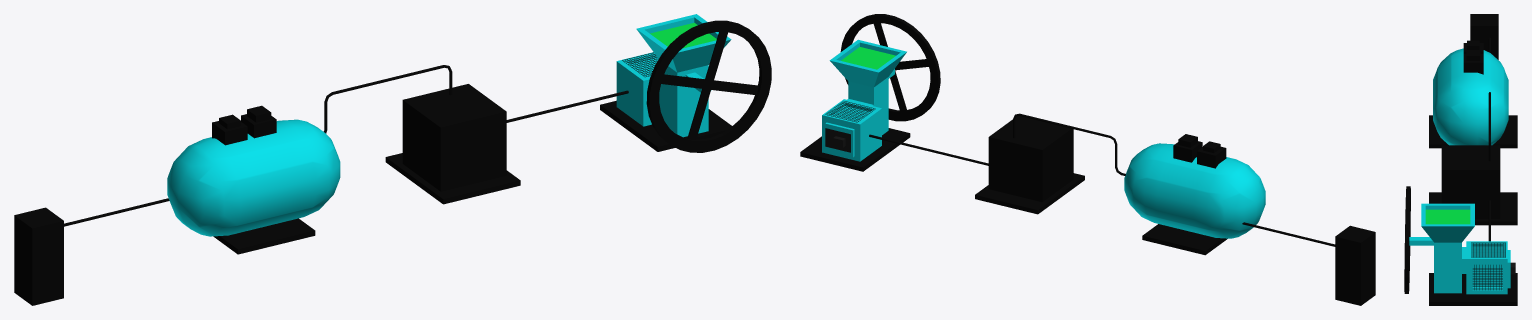
Rendered from bagasseFactory.fbx.
3 renders of one model, left to right at view 1: azimuth 30°, elevation 25°; view 2: azimuth 150°, elevation 25°; view 3: azimuth 270°, elevation 25°, orthographic. The views are drawn at different scales.
Visible parts, largest first — view 1: Mball, Cube.004, Cylinder, Cube.001, Cube.009, Cube.002, Cube.005, Cube.003, Cube, Cube.008, Cube.006, Cube.007; view 2: Mball, Cube.004, Cube.001, Cube.002, Cube.009, Cylinder, Cube, Cube.005, Cube.003, Cube.008, Cube.006, Cube.007 (+1 smaller); view 3: Mball, Cube.004, Cube.001, Cube.002, Cube, Cube.009, Cube.003, Cube.005, Cylinder, Plane, Plane.001, Cube.006 (+2 smaller).
Part boxes in pixels (x1=…): Mball: x1=167, y1=119, x2=340, y2=236; Cube.004: x1=402, y1=84, x2=506, y2=191; Cylinder: x1=646, y1=20, x2=771, y2=152; Cube.001: x1=636, y1=14, x2=731, y2=137; Cube.009: x1=14, y1=207, x2=63, y2=305; Cube.002: x1=616, y1=52, x2=658, y2=126; Cube.005: x1=213, y1=218, x2=315, y2=254; Cube.003: x1=385, y1=153, x2=520, y2=204; Cube: x1=600, y1=100, x2=731, y2=151; Cube.008: x1=64, y1=65, x2=628, y2=226; Cube.006: x1=241, y1=105, x2=276, y2=138; Cube.007: x1=212, y1=114, x2=247, y2=145; Mball: x1=1124, y1=143, x2=1265, y2=238; Cube.004: x1=988, y1=116, x2=1073, y2=202; Cube.001: x1=829, y1=39, x2=906, y2=134; Cube.002: x1=822, y1=99, x2=881, y2=161; Cube.009: x1=1335, y1=225, x2=1375, y2=305; Cylinder: x1=840, y1=14, x2=940, y2=121; Cube: x1=800, y1=128, x2=910, y2=171; Cube.005: x1=1142, y1=224, x2=1227, y2=255; Cube.003: x1=975, y1=173, x2=1084, y2=214; Cube.008: x1=869, y1=113, x2=1335, y2=246; Cube.006: x1=1173, y1=134, x2=1202, y2=162; Cube.007: x1=1197, y1=141, x2=1226, y2=168; Mball: x1=1433, y1=48, x2=1508, y2=145; Cube.004: x1=1441, y1=145, x2=1500, y2=219; Cube.001: x1=1409, y1=203, x2=1474, y2=293; Cube.002: x1=1466, y1=241, x2=1515, y2=294; Cube: x1=1429, y1=273, x2=1517, y2=305; Cube.009: x1=1470, y1=14, x2=1498, y2=59; Cube.003: x1=1429, y1=192, x2=1517, y2=225; Cube.005: x1=1429, y1=115, x2=1517, y2=148; Cylinder: x1=1404, y1=186, x2=1410, y2=293; Plane: x1=1471, y1=242, x2=1505, y2=257; Plane.001: x1=1473, y1=265, x2=1502, y2=289; Cube.006: x1=1463, y1=50, x2=1483, y2=74.
Size of the model in its own units: 11297 by 2438 by 2065.
